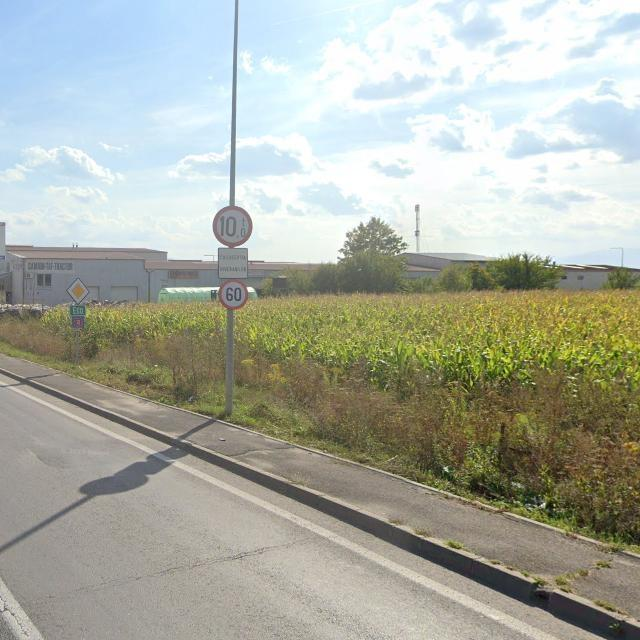forb_speed_over_60: (219, 280, 248, 310)
